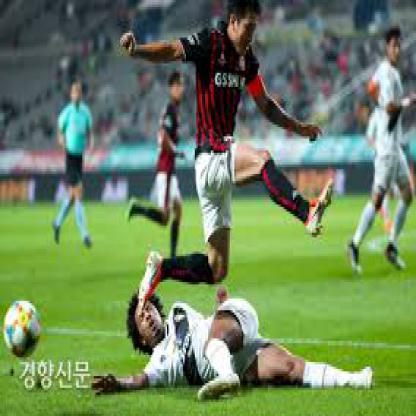Fall_Down: (91, 285, 378, 406)
